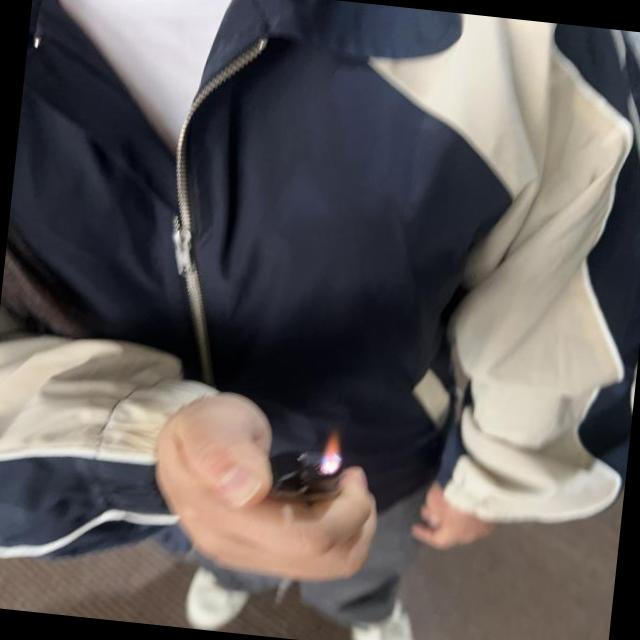Fire: (318, 430, 346, 476)
